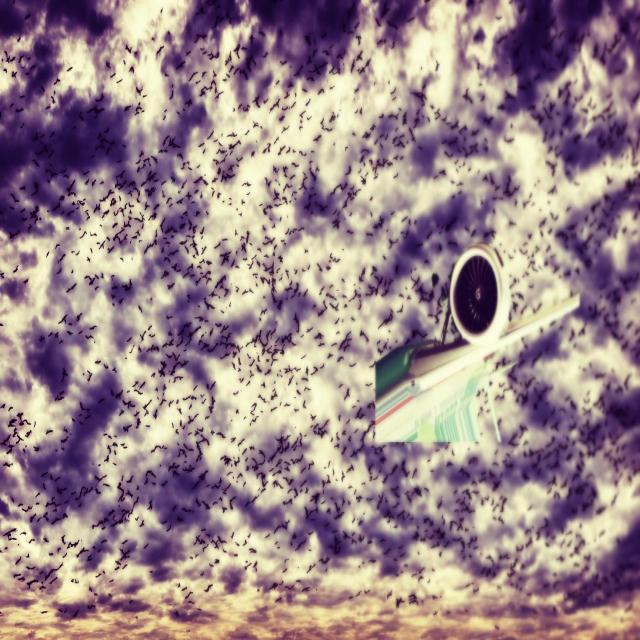airplane: (373, 242, 580, 448)
